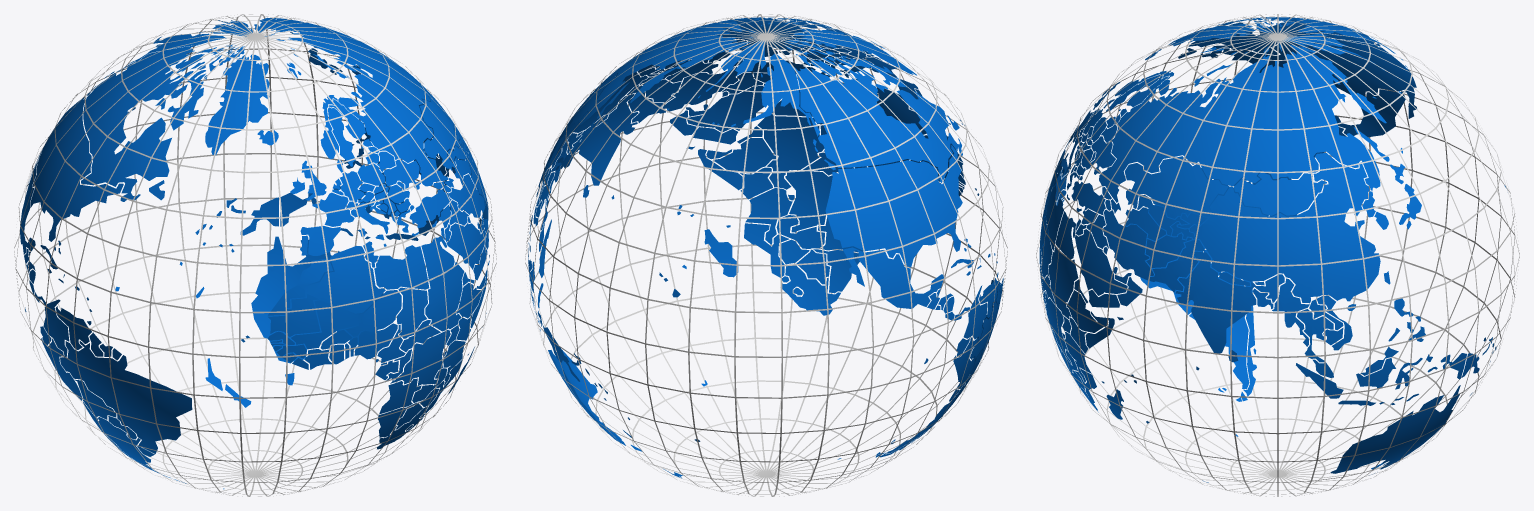
The model's file is Wireframed_Globe_s1.dae.
The picture shows the model from 3 angles, left to right: view 1: azimuth 30°, elevation 25°; view 2: azimuth 150°, elevation 25°; view 3: azimuth 270°, elevation 25°; orthographic projection.
Parts seen in each view (by area): view 1: Sphere, Latlong; view 2: Sphere, Latlong; view 3: Sphere, Latlong.
Boxes of the visible parts, x1,y1,x2,y2 form: Sphere: [20, 17, 489, 489]; Latlong: [14, 14, 496, 496]; Sphere: [528, 17, 1003, 478]; Latlong: [525, 14, 1007, 496]; Sphere: [1039, 17, 1506, 482]; Latlong: [1036, 14, 1519, 496].
Bounding box in the file's own units: 1.29 × 1.29 × 1.29.
